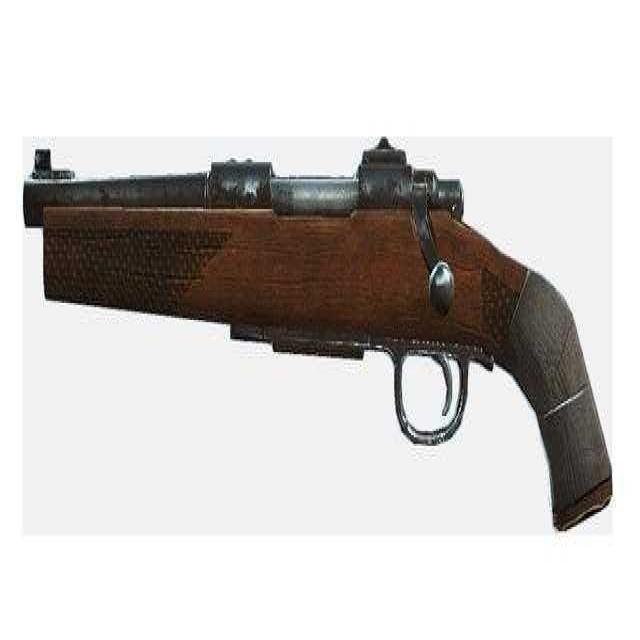heavyweapon: (17, 112, 623, 558)
